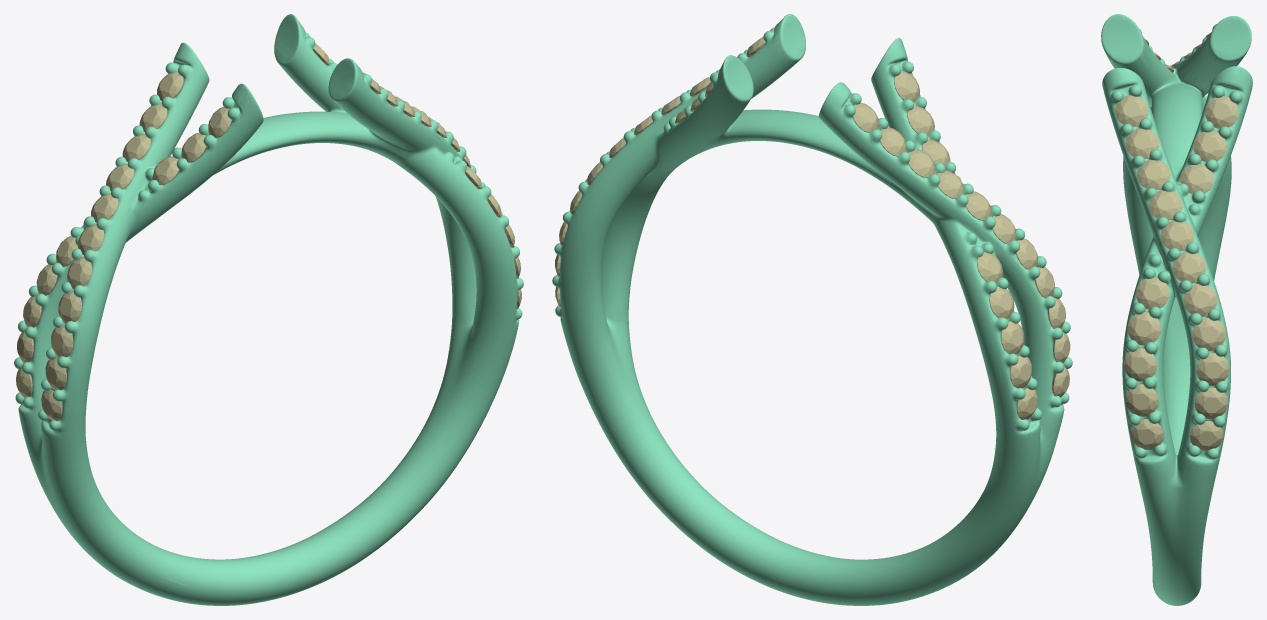
3 views of the same model, side by side, from view 1: azimuth 30°, elevation 25°; view 2: azimuth 150°, elevation 25°; view 3: azimuth 270°, elevation 25° (orthographic).
Visible parts, largest first — view 1: Metal02; view 2: Metal02; view 3: Metal02, Diamond_Gem.007, Diamond_Gem.001, Diamond_Gem.002, Diamond_Gem.011, Diamond_Gem, Diamond_Gem.003, Diamond_Gem.012, Diamond_Gem.006, Diamond_Gem.010, Diamond_Gem.018, Diamond_Gem.009 (+8 smaller).
Boxes of the visible parts, box(x1,y1,x2,y2) form: Metal02: box(14, 14, 523, 605); Metal02: box(552, 14, 1072, 605); Metal02: box(1101, 14, 1252, 605); Diamond_Gem.007: box(1205, 96, 1238, 128); Diamond_Gem.001: box(1127, 312, 1160, 345); Diamond_Gem.002: box(1123, 348, 1157, 381); Diamond_Gem.011: box(1192, 318, 1225, 351); Diamond_Gem: box(1136, 277, 1169, 309); Diamond_Gem.003: box(1125, 384, 1158, 416); Diamond_Gem.012: box(1184, 284, 1217, 316); Diamond_Gem.006: box(1193, 130, 1226, 162); Diamond_Gem.010: box(1196, 352, 1229, 385); Diamond_Gem.018: box(1115, 95, 1148, 126); Diamond_Gem.009: box(1194, 387, 1228, 419).
Bounding box in the file's own units: 21.09 × 23.11 × 5.88.
